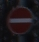No entry: (5, 5, 34, 37)
